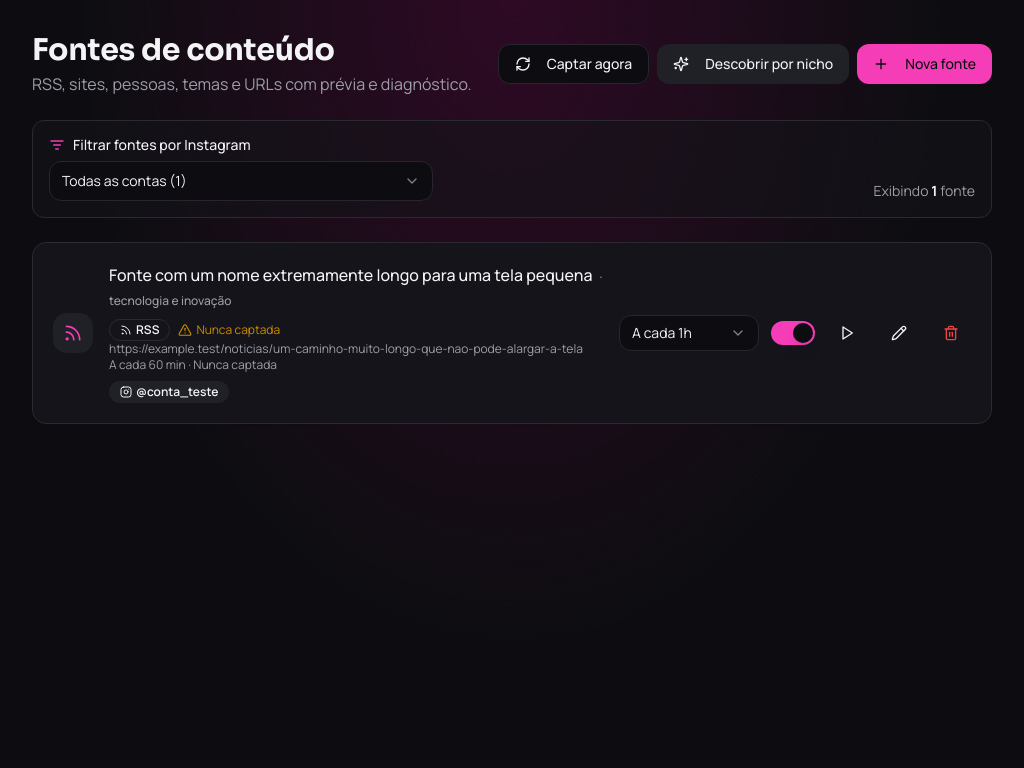
Scenario: Sources mobile layout › keeps long source content contained and opens a scrollable add dialog
Expected: the button named "Editar Fonte com um nome extremamente longo para uma tela pequena" is shown, [879, 313, 919, 353]
Click the button "Nova fonte" at (925, 64), box [857, 44, 992, 84]
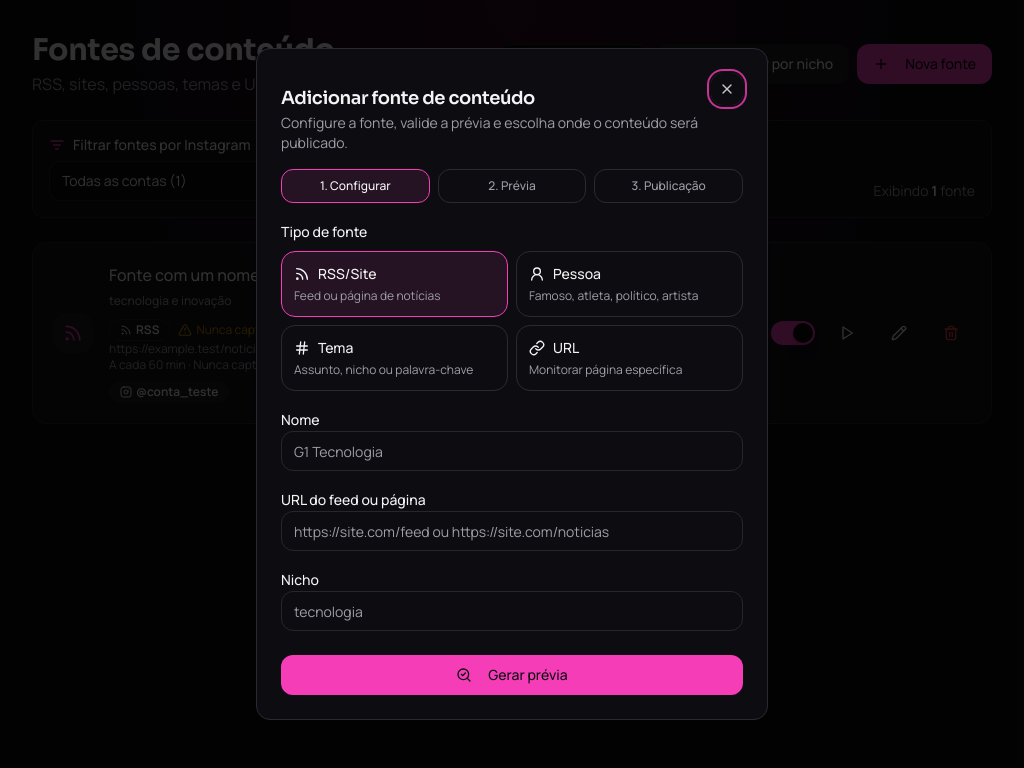
Result: the button "1. Configurar" is shown at [281, 169, 430, 203]
Click the button "3. Publicação" at (669, 186), box [594, 169, 743, 203]
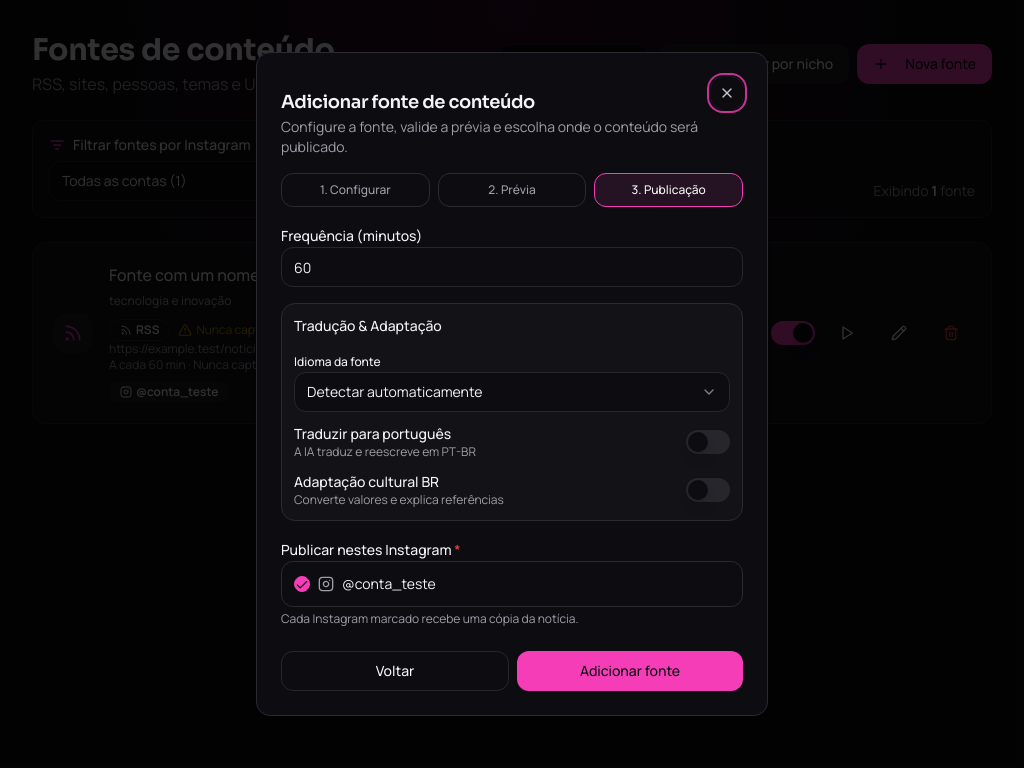
Result: the text "Publicar nestes Instagram" is shown at [281, 540, 454, 559]
Result: the button "Voltar" is shown at [281, 651, 509, 691]
